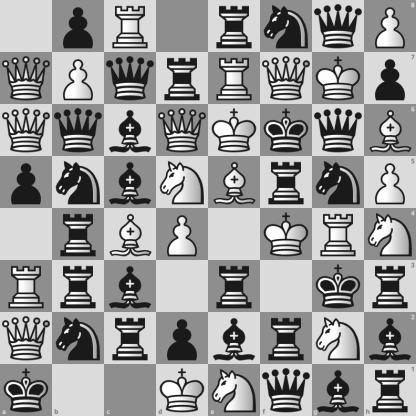B: (364, 104, 416, 156), (105, 209, 156, 260), (209, 157, 260, 208)
K: (156, 364, 209, 416), (209, 105, 260, 156), (261, 209, 312, 260), (313, 53, 364, 104)
N: (209, 364, 260, 416), (364, 209, 416, 260), (157, 157, 208, 208), (313, 313, 364, 364)
P: (364, 156, 416, 209), (364, 0, 416, 52), (53, 53, 104, 104), (157, 209, 208, 260)
Q: (1, 53, 52, 104), (1, 105, 52, 156), (1, 313, 52, 364), (157, 105, 208, 156), (261, 53, 312, 104)
R: (1, 261, 52, 312), (105, 1, 156, 52), (209, 53, 260, 104), (313, 209, 364, 260)
b: (312, 364, 364, 416), (364, 312, 416, 364), (105, 105, 156, 156), (105, 157, 156, 208), (105, 261, 156, 312), (209, 313, 260, 364)
board: (0, 0, 415, 415)
k: (0, 364, 52, 416), (261, 105, 312, 156), (313, 261, 364, 312)
n: (53, 157, 104, 208), (53, 313, 104, 364), (261, 1, 312, 52), (313, 157, 364, 208)
p: (364, 52, 416, 104), (1, 157, 52, 208), (53, 1, 104, 52), (157, 313, 208, 364)
q: (260, 364, 312, 416), (53, 105, 104, 156), (105, 53, 156, 104), (313, 1, 364, 52), (313, 105, 364, 156)
r: (364, 260, 416, 312), (364, 364, 416, 416), (53, 209, 104, 260), (53, 261, 104, 312), (105, 313, 156, 364), (157, 53, 208, 104), (209, 1, 260, 52), (209, 261, 260, 312), (261, 157, 312, 208), (261, 313, 312, 364)
